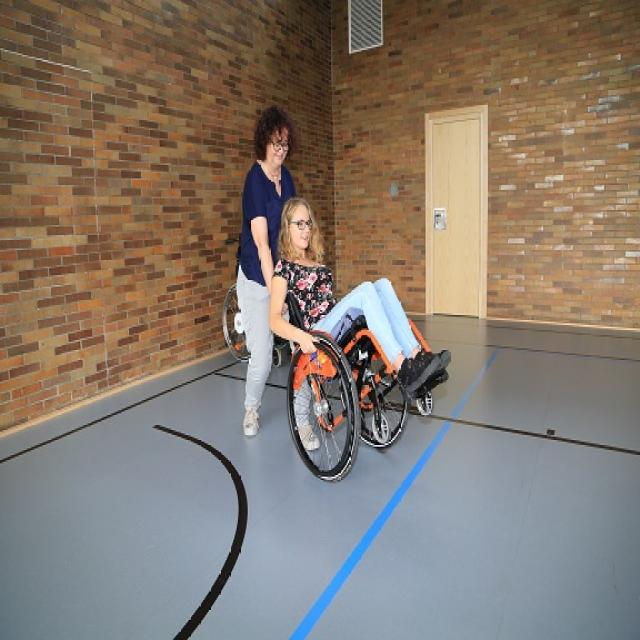wheelchairs: (268, 275, 457, 482), (215, 235, 260, 372)
